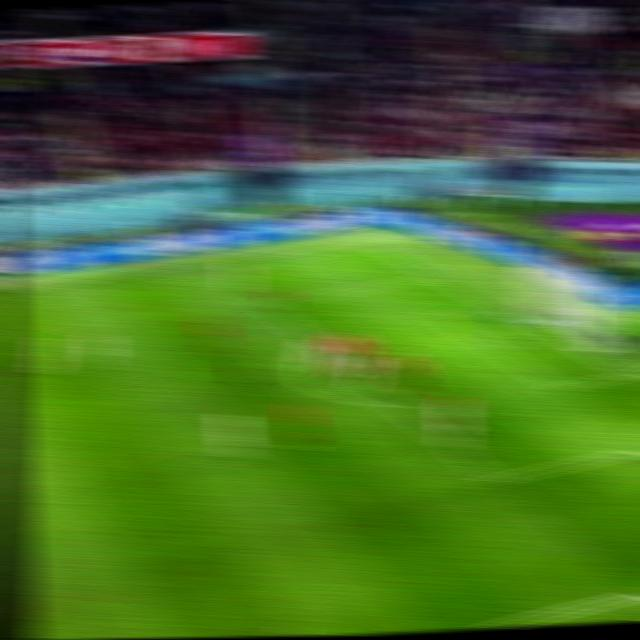bigarea_bottom_inner: (479, 467, 513, 490)
bigarea_top_inner: (252, 298, 281, 312)
bigarea_top_outter: (425, 271, 449, 283)
bottom_arc_area_intersection: (386, 398, 415, 416)
corner: (362, 242, 387, 249)
smallarea_bottom_inner: (546, 377, 576, 396)
smallarea_bottom_outter: (617, 366, 640, 384)
smallarea_top_inner: (427, 311, 453, 325)
smallarea_top_outter: (488, 302, 508, 312)
